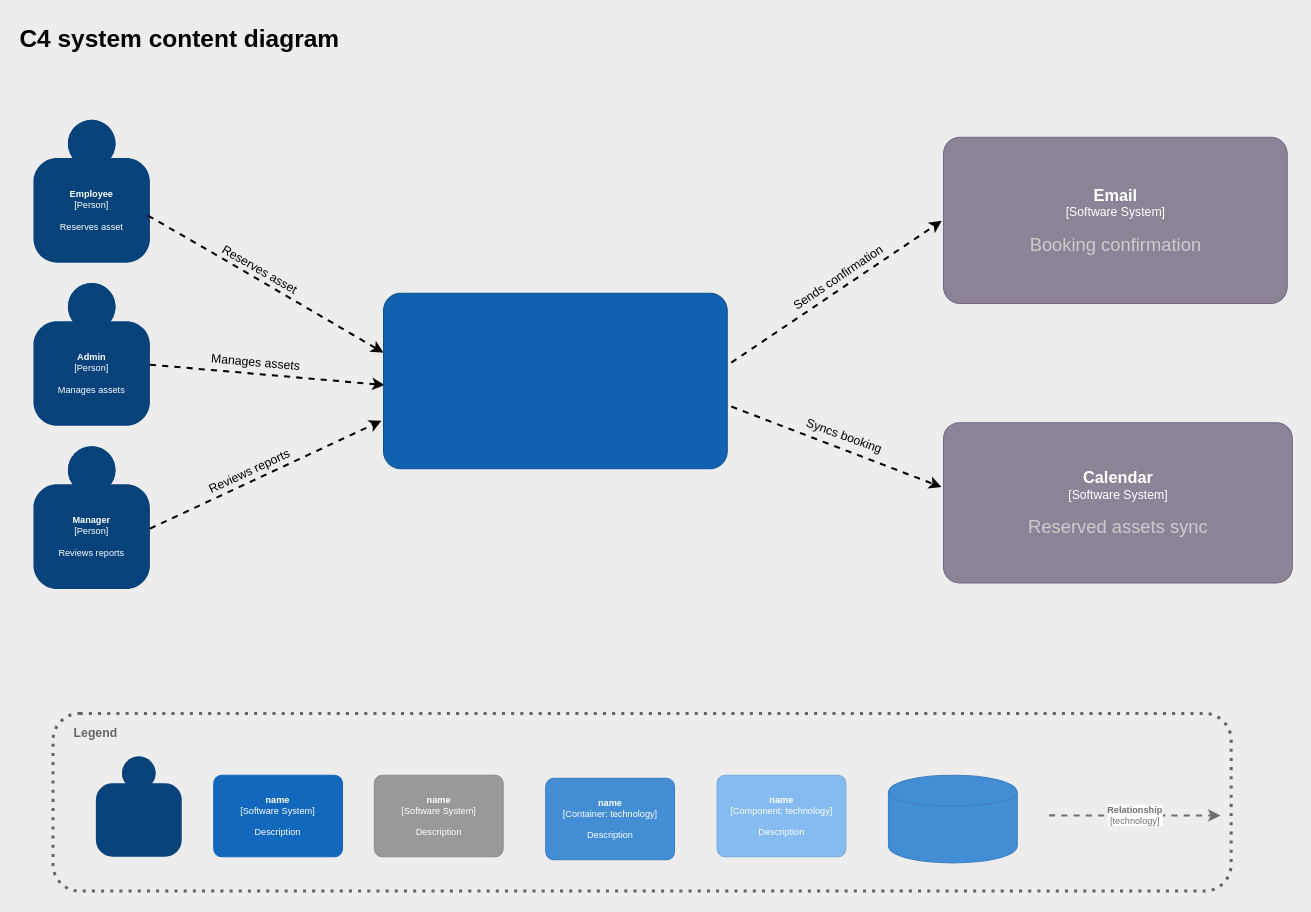
The diagram is 1311 pixels wide and 912 high, and some of its shapes have lost their labels. The centre of each missing label's shape, as x and y in pixels:
"Asset Booking Management [Software System] Asset booking, QR scanning, reports" goes at pixel 554 380.
"Database [Container: Technology] Description" goes at pixel 952 818.
"name [Person] Description" goes at pixel 138 806.
